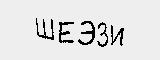Е: (57, 19, 76, 46)
З: (95, 21, 108, 49)
И: (110, 25, 127, 47)
Ш: (34, 17, 55, 42)
Э: (76, 19, 97, 45)
